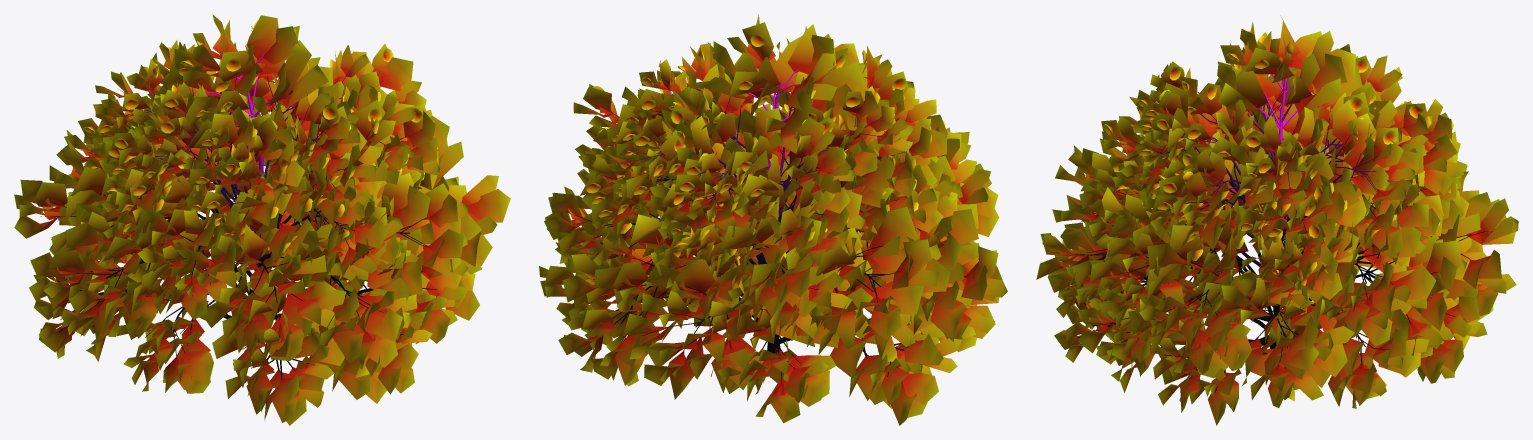
File: SM_Lugose.fbx
3 renders of one model, left to right at view 1: azimuth 30°, elevation 25°; view 2: azimuth 150°, elevation 25°; view 3: azimuth 270°, elevation 25°, orthographic. The views are drawn at different scales.
Visible parts, largest first — view 1: Box006; view 2: Box006; view 3: Box006.
Boxes of the visible parts, x1=… form: Box006: x1=14, y1=14, x2=510, y2=425; Box006: x1=539, y1=14, x2=1007, y2=425; Box006: x1=1036, y1=15, x2=1518, y2=425.
Bounding box in the file's own units: 210 × 156 × 199.
